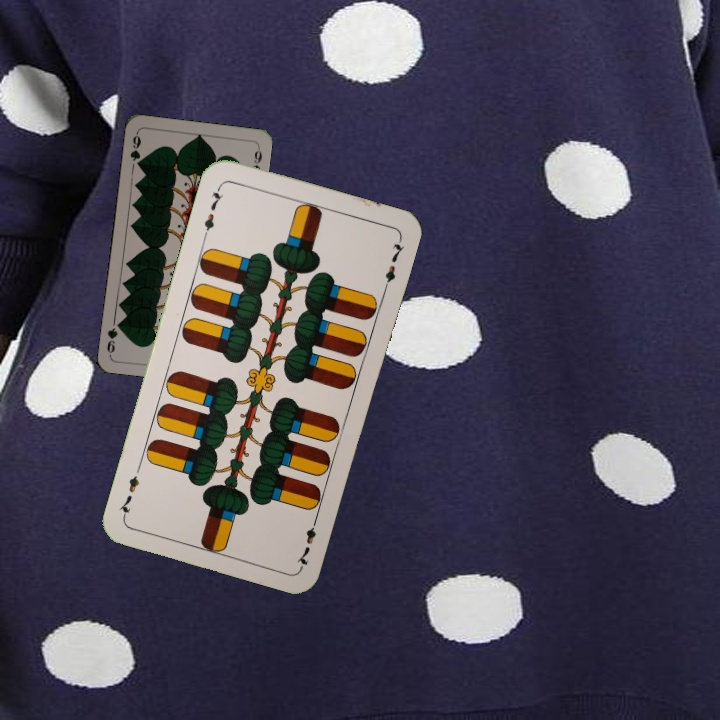E7: (292, 512, 321, 570), (199, 182, 227, 240)
G9: (126, 129, 144, 170)
